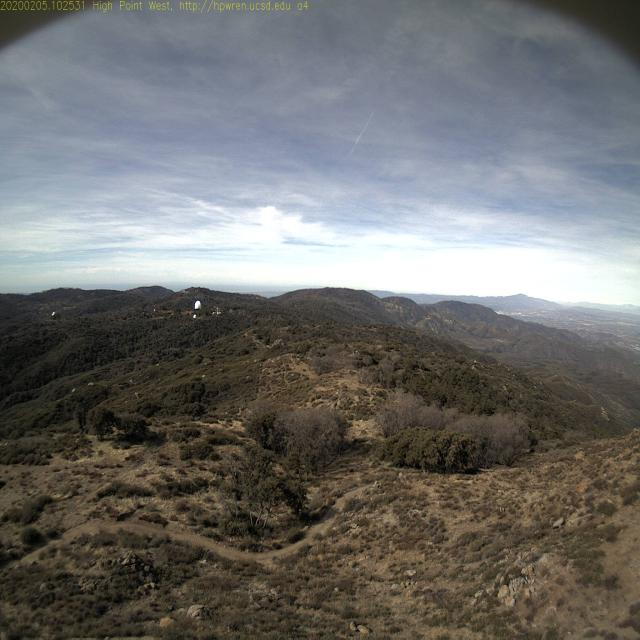smoke: (180, 288, 188, 294)
